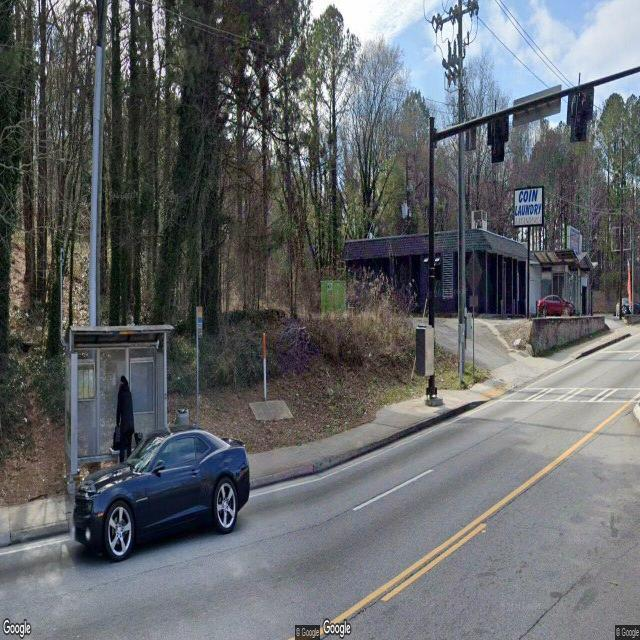seating: (109, 444, 141, 466)
shelter: (65, 326, 176, 492)
trash_can: (176, 408, 190, 424)
